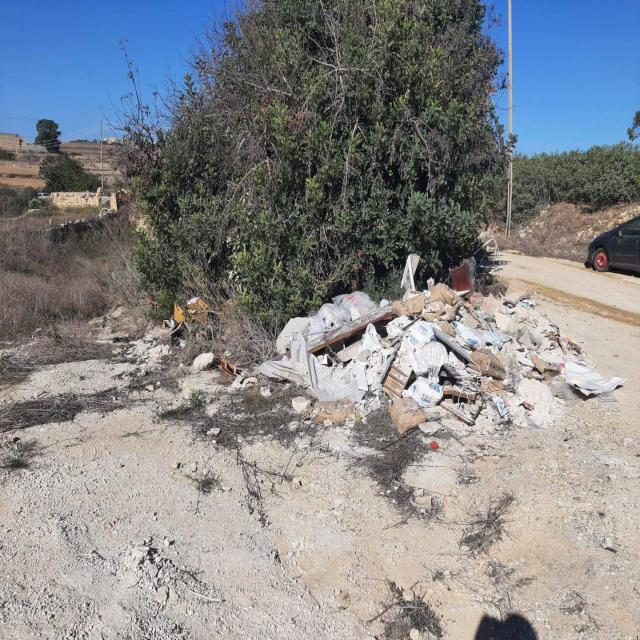Bottle cap: (429, 442, 438, 449)
Other litter: (253, 253, 629, 436), (156, 294, 212, 344), (214, 356, 239, 381)
